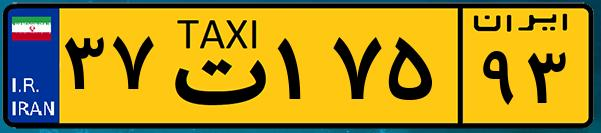1: (270, 28, 330, 110)
3: (57, 26, 110, 100), (525, 38, 570, 115)
5: (385, 28, 445, 110)
7: (330, 28, 385, 110), (110, 28, 158, 98)
9: (475, 38, 525, 113)
ت: (158, 12, 270, 120)
